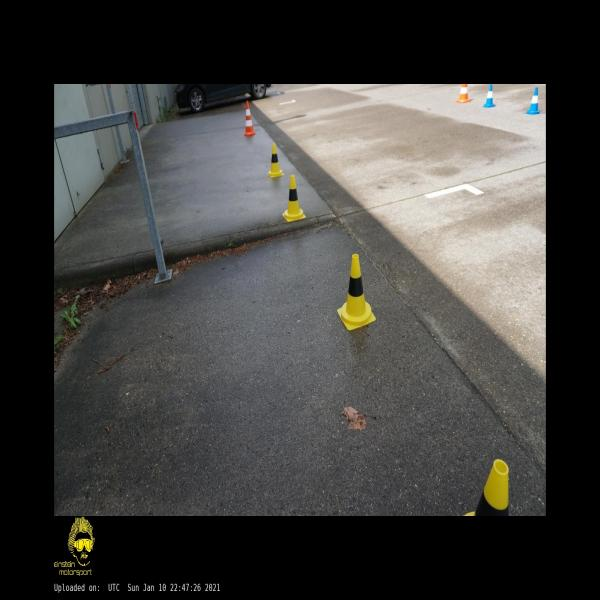blue_cone: (526, 88, 541, 114), (483, 84, 495, 107)
large_orange_cone: (244, 101, 255, 136), (456, 84, 471, 103)
yellow_cone: (337, 253, 376, 331), (464, 459, 509, 515), (282, 175, 306, 223), (268, 144, 283, 178)
